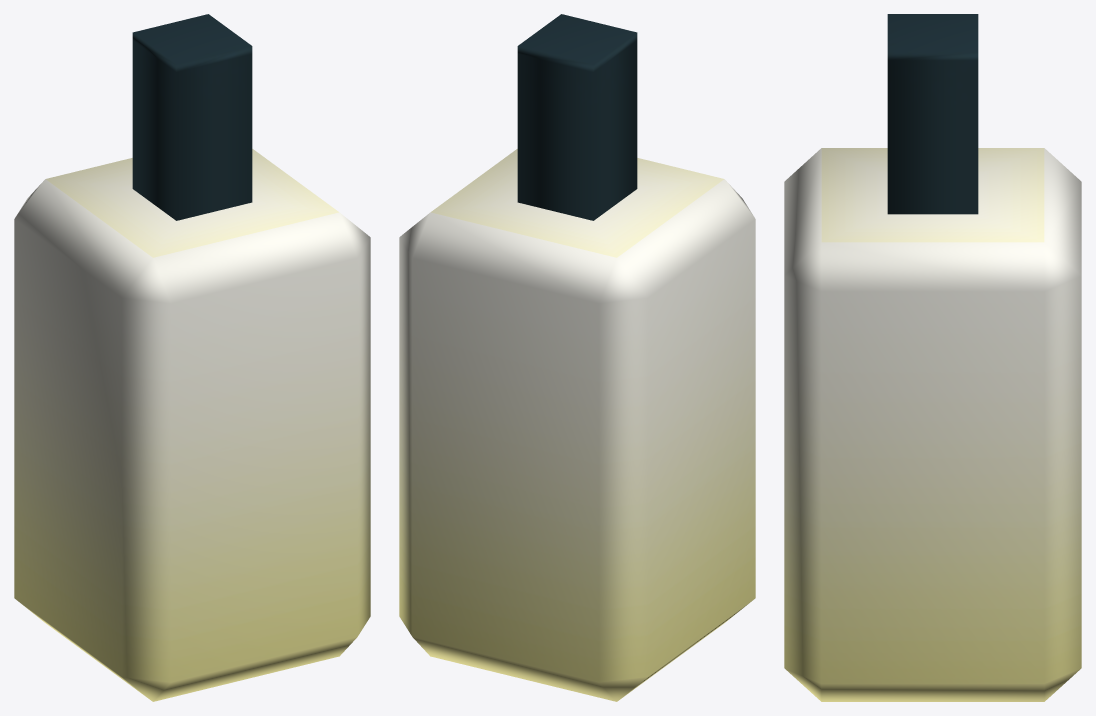
File: candle_small_2.fbx
3 renders of one model, left to right at view 1: azimuth 30°, elevation 25°; view 2: azimuth 150°, elevation 25°; view 3: azimuth 270°, elevation 25°, orthographic. The views are drawn at different scales.
Visible parts, largest first — view 1: candle_small_2; view 2: candle_small_2; view 3: candle_small_2.
Boxes of the visible parts, box(x1,y1,x2,y2) form: candle_small_2: box(14, 14, 370, 701); candle_small_2: box(399, 14, 755, 701); candle_small_2: box(784, 14, 1081, 701).
Size of the model in its own units: 18.51 by 42.68 by 18.51.
1 material, 1 textured.
